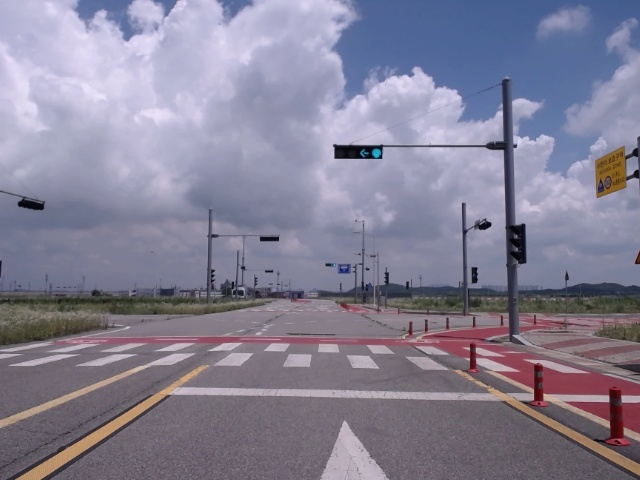all_green_4: (329, 144, 383, 160)
